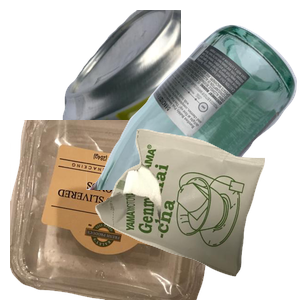glass: (86, 22, 300, 202)
metal: (60, 10, 300, 190)
plastic: (10, 120, 227, 300)
trash: (93, 126, 300, 300)
